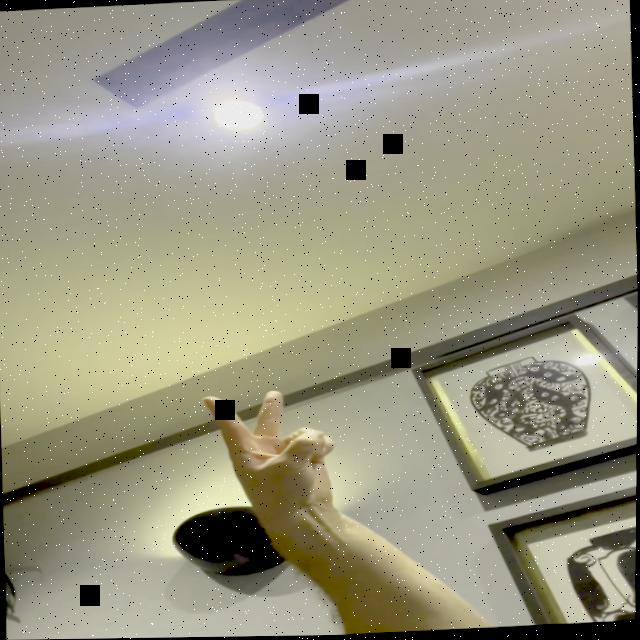Scissors: (200, 387, 341, 525)
